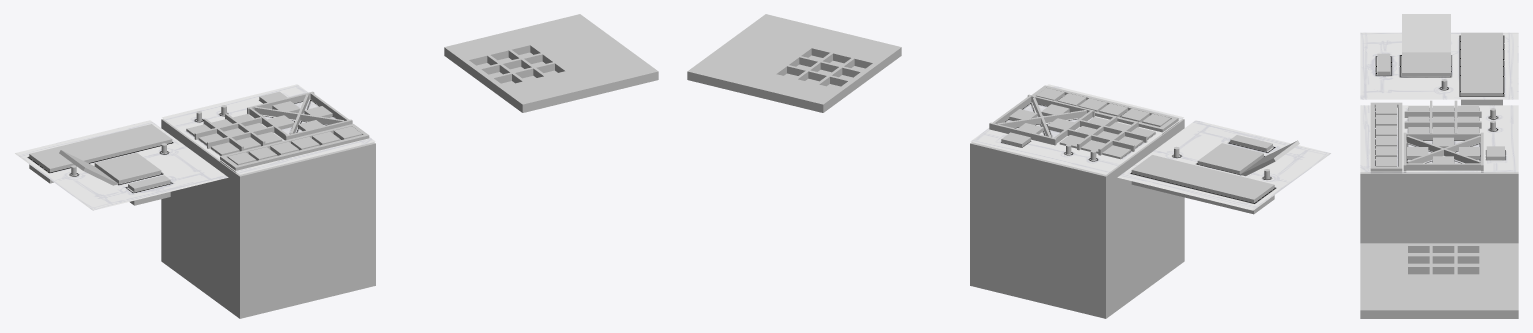
File: pigpen puzzle box.fbx
3 views of the same model, side by side, from view 1: azimuth 30°, elevation 25°; view 2: azimuth 150°, elevation 25°; view 3: azimuth 270°, elevation 25° (orthographic).
Visible parts, largest first — view 1: Box001, Box044, Plane002, Plane001, Box043, Box045, Box040, Box042, Box029, Box041; view 2: Box001, Box044, Plane002, Box043, Plane001, Box040, Box045, Box030, Box041, Box037; view 3: Box044, Box001, Plane002, Plane001, Box043, Box041, Box040, Box045, Box036, Box030, Box029, Box034 (+22 smaller).
Part boxes in pixels (bbox=[...]): Box001: bbox=[161, 119, 375, 318]; Box044: bbox=[444, 14, 658, 112]; Plane002: bbox=[15, 120, 228, 210]; Plane001: bbox=[162, 84, 375, 174]; Box043: bbox=[29, 124, 172, 183]; Box045: bbox=[220, 124, 369, 172]; Box040: bbox=[94, 152, 161, 184]; Box042: bbox=[128, 175, 170, 205]; Box029: bbox=[254, 106, 344, 124]; Box041: bbox=[59, 150, 118, 185]; Box001: bbox=[970, 119, 1184, 318]; Box044: bbox=[687, 14, 901, 112]; Plane002: bbox=[1117, 120, 1330, 210]; Box043: bbox=[1131, 155, 1274, 214]; Plane001: bbox=[970, 84, 1183, 174]; Box040: bbox=[1197, 143, 1263, 174]; Box045: bbox=[1032, 85, 1178, 134]; Box030: bbox=[997, 110, 1086, 127]; Box041: bbox=[1240, 140, 1299, 175]; Box037: bbox=[989, 122, 1056, 145]; Box044: bbox=[1360, 243, 1518, 318]; Box001: bbox=[1360, 172, 1518, 243]; Plane002: bbox=[1360, 32, 1518, 99]; Plane001: bbox=[1360, 105, 1518, 172]; Box043: bbox=[1461, 32, 1502, 105]; Box041: bbox=[1402, 14, 1450, 52]; Box040: bbox=[1402, 52, 1450, 76]; Box045: bbox=[1370, 102, 1402, 173]; Box036: bbox=[1404, 163, 1481, 170]; Box030: bbox=[1406, 135, 1480, 163]; Box029: bbox=[1406, 135, 1480, 163]; Box034: bbox=[1404, 121, 1481, 128].
Size of the model in its own units: 491 by 140 by 118.
2 materials, 2 textured.
